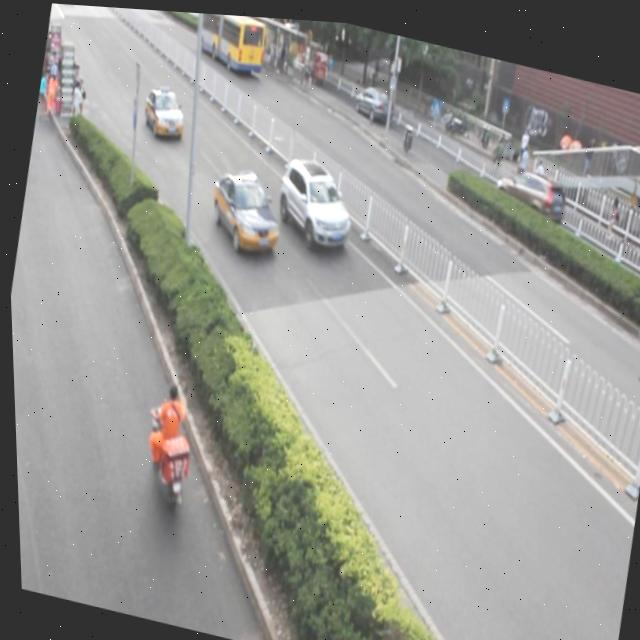car: (270, 152, 358, 252), (201, 161, 287, 259), (483, 155, 567, 229), (137, 78, 187, 142), (348, 76, 397, 125)
van: (189, 10, 269, 77)
